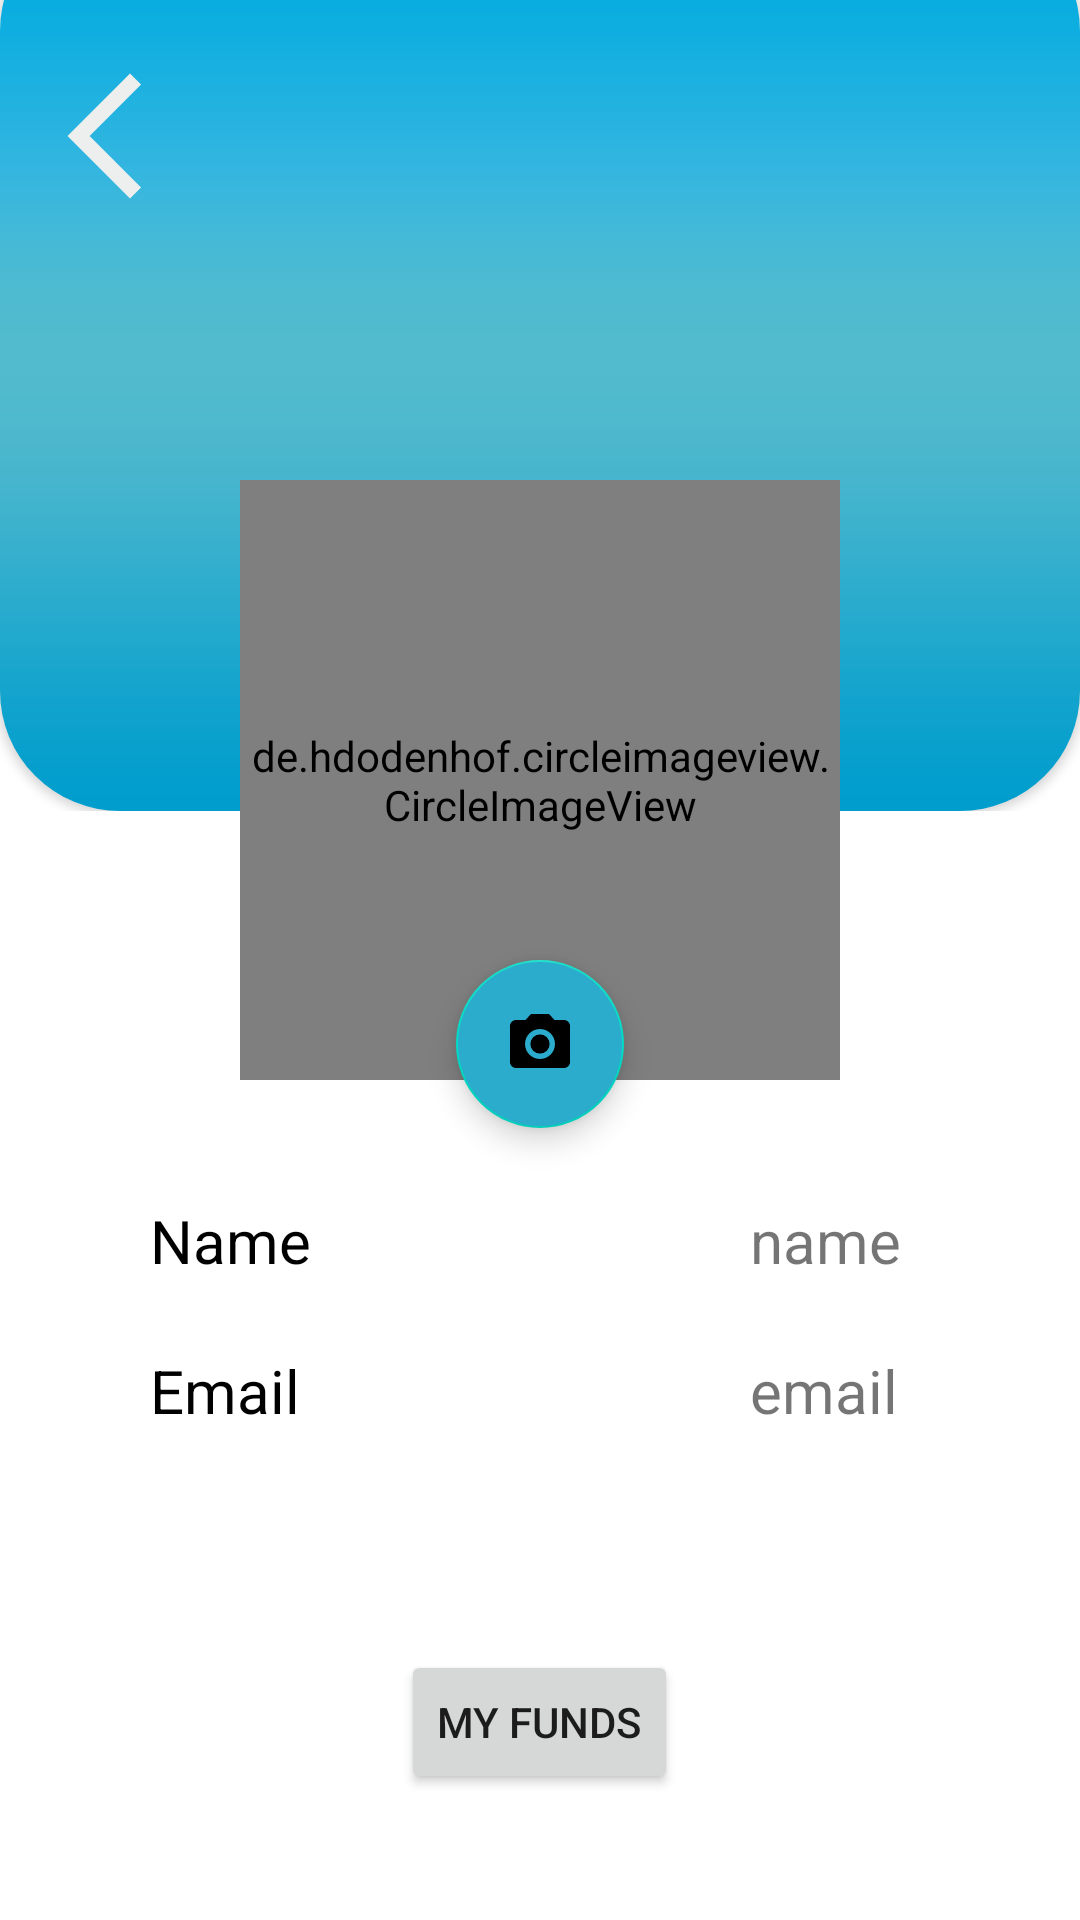

Point at icon controls on the screen. Image size 1080 x 1920, points as (x,y).
arrow back: (105,136)
photo camera: (540,1044)
